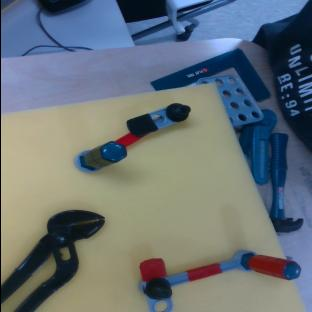non_pass: (72, 88, 194, 180)
pass: (132, 222, 302, 312)
